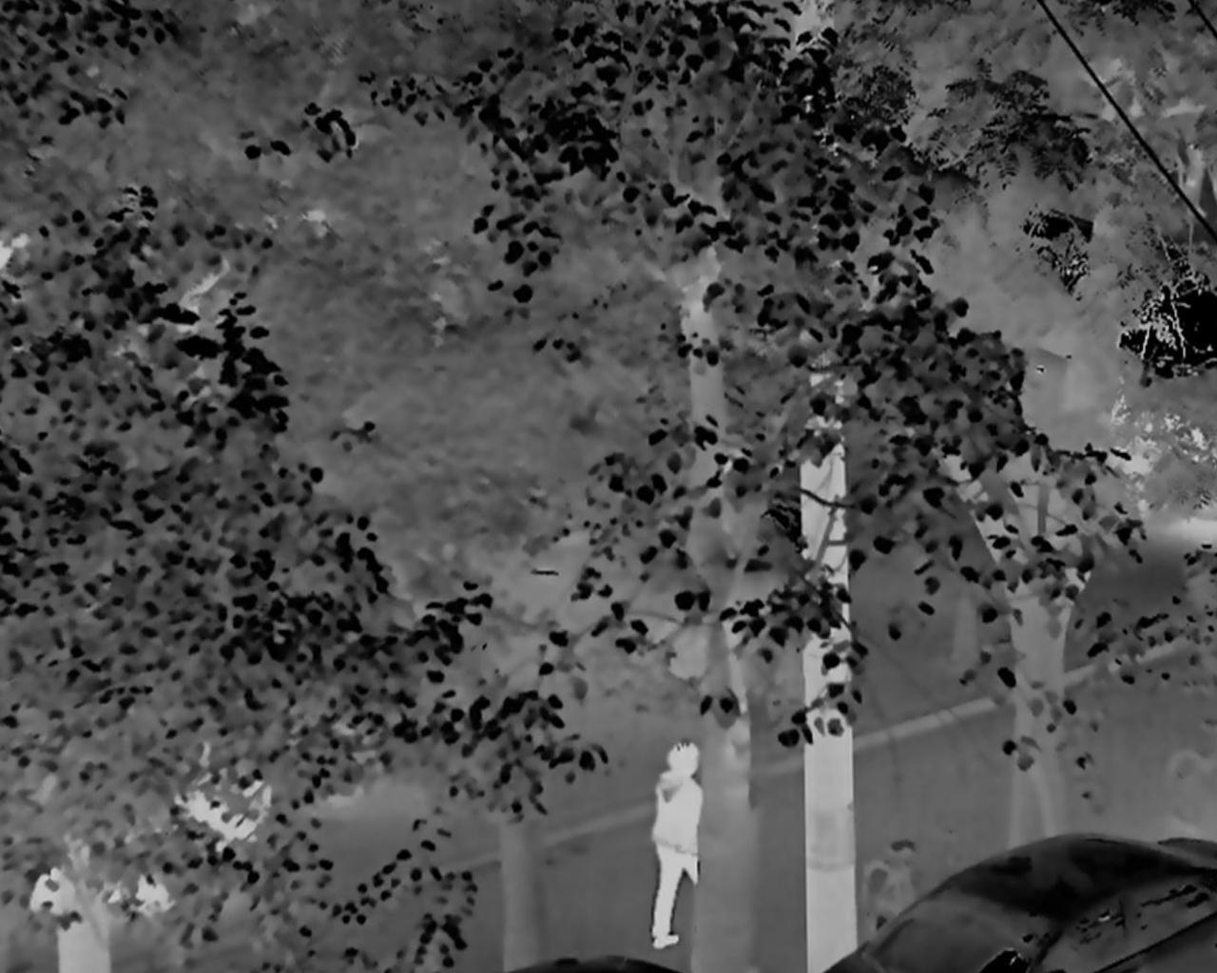person: (647, 741, 712, 953)
